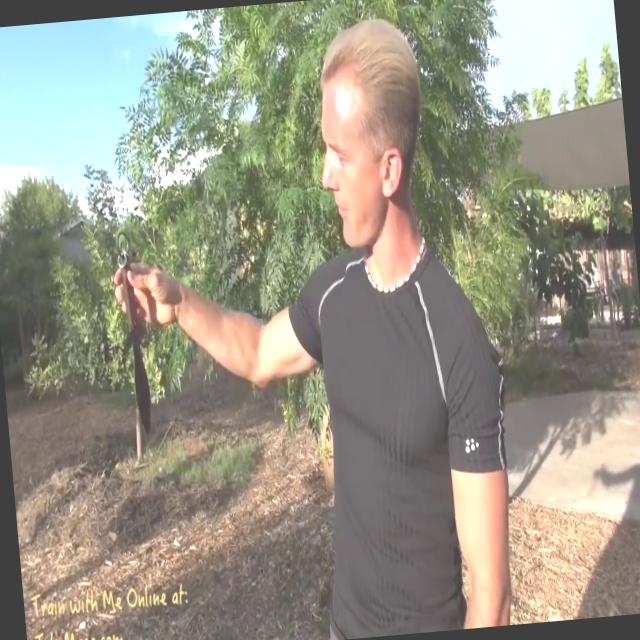knife: (108, 220, 162, 456)
